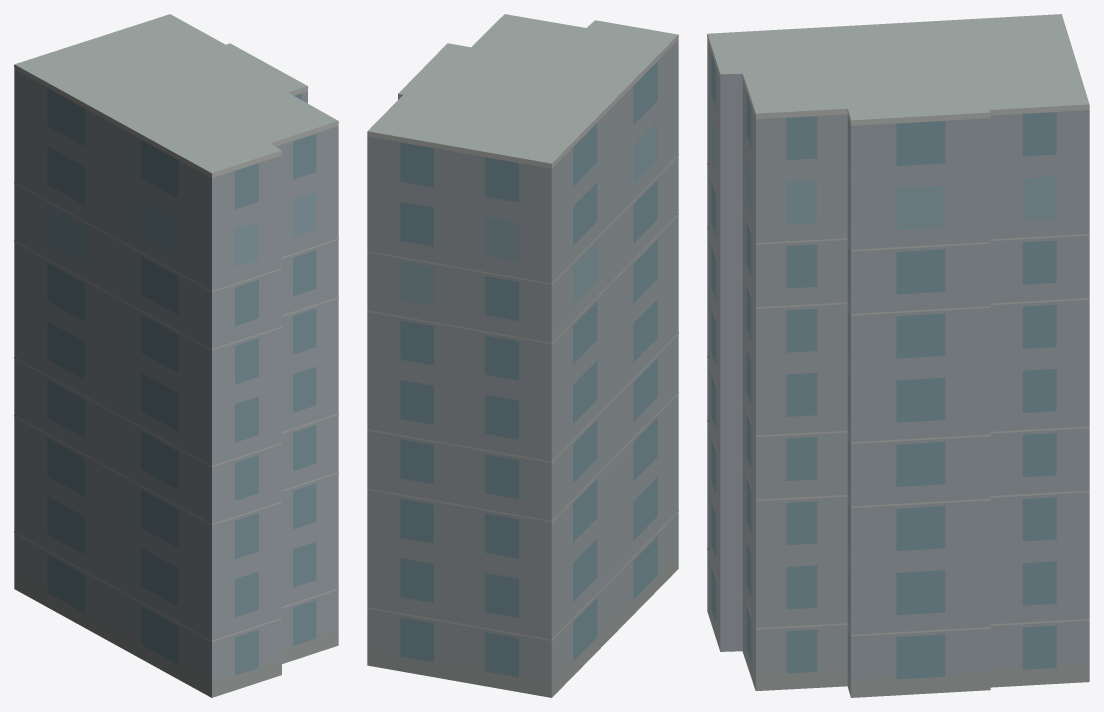
The model's file is survey-upis-32529382.glb.
The picture shows the model from 3 angles, left to right: view 1: azimuth 30°, elevation 25°; view 2: azimuth 150°, elevation 25°; view 3: azimuth 270°, elevation 25°; orthographic projection. The views are drawn at different scales.
Parts seen in each view (by area): view 1: survey-upis-32529382.tmp; view 2: survey-upis-32529382.tmp; view 3: survey-upis-32529382.tmp.
Part boxes in pixels (box(x1,y1,x2,y2)): survey-upis-32529382.tmp: box(14, 14, 338, 697); survey-upis-32529382.tmp: box(367, 14, 678, 697); survey-upis-32529382.tmp: box(707, 14, 1089, 697).
Bounding box in the file's own units: 10.1 × 25.5 × 15.32.
